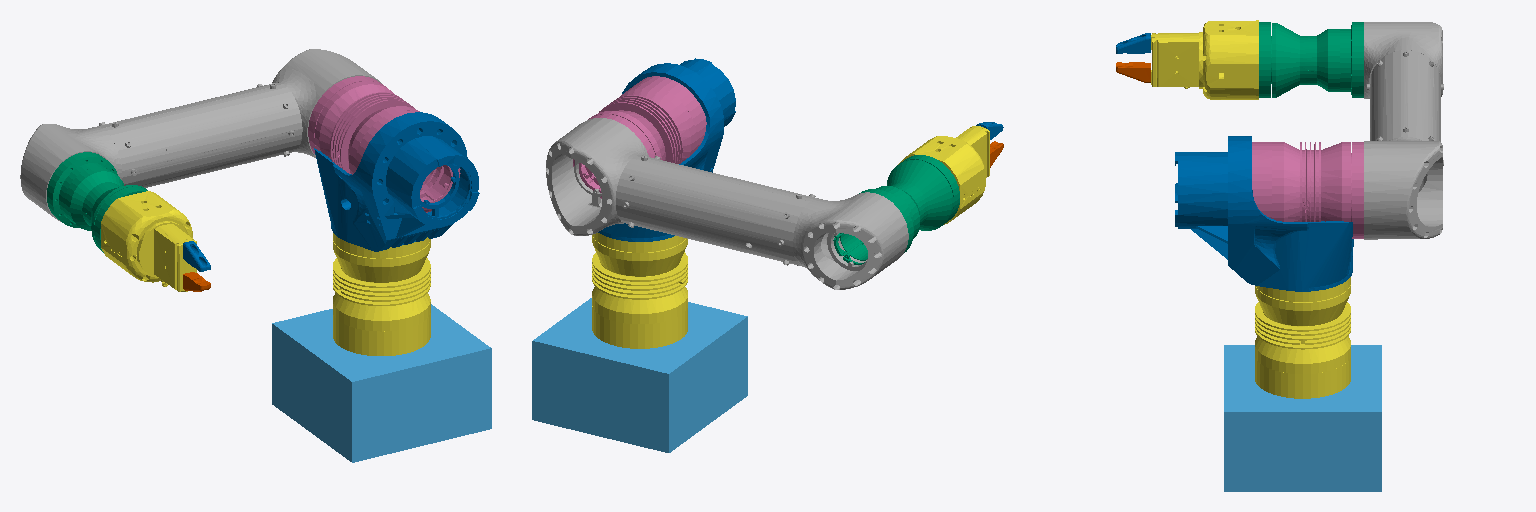
URDF robot description (modrob0):
<?xml version="1.0"?>
<robot name="modrob0">

	<link name="world"/>

	<gazebo>
		<plugin name="gazebo_ros_control" filename="libgazebo_ros_control.so">
			<robotNamespace>/modrob0</robotNamespace>
			<robotSimType>gazebo_ros_control/DefaultRobotHWSim</robotSimType>
		</plugin>
	</gazebo>

	<link name="part0">
		<visual>
			<origin rpy="0.000000 -0.000000 0.000000" xyz="0.000000 0.000000 0.100000"/>
			<geometry>
				<mesh filename="package://modrob_simulation/stl_files/B_simple.STL"/>
			</geometry>
		</visual>
		<collision>
			<origin rpy="0 0 0" xyz="0 0 5.000000e-02"/>
			<geometry>
 			<box size="1.800000e-01 1.800000e-01 1.000000e-01"/>
			</geometry>
		</collision>
	</link>

	<gazebo reference="part0">
		<material>Gazebo/DarkGrey</material>
	</gazebo>

	<gazebo reference="part0">
		<kp>0.000000</kp>
		<kd>0.000000</kd>
		<mu1>0.000000</mu1>
		<mu2>0.000000</mu2>
	</gazebo>

	<link name="distal_link_of_joint0_NV">
		<inertial>
			<origin rpy="0.000000 0.000000 0.000000" xyz="0.000630 0.000190 -0.009660"/>
			<mass value="0.588000"/>
			<inertia ixx="0.000840" ixy="0.000000" ixz="-0.000011" iyy="0.000833" iyz="-0.000001" izz="0.000732"/>
		</inertial>
	</link>

	<gazebo reference="distal_link_of_joint0_NV">
		<material></material>
	</gazebo>

	<gazebo reference="distal_link_of_joint0_NV">
		<kp>0.000000</kp>
		<kd>0.000000</kd>
		<mu1>0.000000</mu1>
		<mu2>0.000000</mu2>
	</gazebo>

	<link name="proximal_link_of_joint0">
		<inertial>
			<origin rpy="0.000000 0.000000 0.000000" xyz="0.000180 0.000130 0.054300"/>
			<mass value="2.795000"/>
			<inertia ixx="0.014000" ixy="-0.000002" ixz="-0.000003" iyy="0.014000" iyz="0.000005" izz="0.000732"/>
		</inertial>
		<visual>
			<origin rpy="0.000000 -0.000000 0.000000" xyz="0.000000 0.000000 0.135300"/>
			<geometry>
				<mesh filename="package://modrob_simulation/stl_files/MXL_low_poly.STL"/>
			</geometry>
		</visual>
		<collision>
			<origin rpy="0 0 0" xyz="0 0 5.514999e-02"/>
			<geometry>
 			<box size="1.100000e-01 1.100000e-01 2.054800e-01"/>
			</geometry>
		</collision>
	</link>

	<gazebo reference="proximal_link_of_joint0">
		<material>Gazebo/Blue</material>
	</gazebo>

	<gazebo reference="proximal_link_of_joint0">
		<kp>10000.000000</kp>
		<kd>10.000000</kd>
		<mu1>0.200000</mu1>
		<mu2>0.200000</mu2>
	</gazebo>

	<link name="link1">
		<inertial>
			<origin rpy="0.000000 0.000000 0.000000" xyz="0.000200 -0.036560 0.054520"/>
			<mass value="0.581910"/>
			<inertia ixx="0.004886" ixy="0.000007" ixz="-0.000007" iyy="0.003453" iyz="0.001714" izz="0.000000"/>
		</inertial>
		<visual>
			<origin rpy="2.356194 -1.570796 2.356194" xyz="0.000000 -0.065500 0.100900"/>
			<geometry>
				<mesh filename="package://modrob_simulation/stl_files/L_Rasmus_01_90_LL_low_poly.STL"/>
			</geometry>
		</visual>
		<collision>
			<origin rpy="2.356194e+00 -1.570796e+00 2.356194e+00" xyz="2.594479e-08 -4.366005e-02 8.128230e-02"/>
			<geometry>
 			<box size="1.625646e-01 1.235962e-01 2.036799e-01"/>
			</geometry>
		</collision>
	</link>

	<gazebo reference="link1">
		<material>Gazebo/DarkGrey</material>
	</gazebo>

	<gazebo reference="link1">
		<kp>0.000000</kp>
		<kd>0.000000</kd>
		<mu1>0.000000</mu1>
		<mu2>0.000000</mu2>
	</gazebo>



	<link name="distal_link_of_joint1_NV">
		<inertial>
			<origin rpy="0.000000 0.000000 0.000000" xyz="0.000630 0.000190 -0.009660"/>
			<mass value="0.588000"/>
			<inertia ixx="0.000840" ixy="0.000000" ixz="-0.000011" iyy="0.000833" iyz="-0.000001" izz="0.000732"/>
		</inertial>
	</link>

	<gazebo reference="distal_link_of_joint1_NV">
		<material></material>
	</gazebo>

	<gazebo reference="distal_link_of_joint1_NV">
		<kp>0.000000</kp>
		<kd>0.000000</kd>
		<mu1>0.000000</mu1>
		<mu2>0.000000</mu2>
	</gazebo>

	<link name="proximal_link_of_joint1">
		<inertial>
			<origin rpy="0.000000 0.000000 0.000000" xyz="0.000180 0.000130 0.054300"/>
			<mass value="2.795000"/>
			<inertia ixx="0.014000" ixy="0.000002" ixz="0.000003" iyy="0.014000" iyz="-0.000005" izz="0.000732"/>
		</inertial>
		<visual>
			<origin rpy="3.141593 -3.141593 1.570796" xyz="0.000000 0.000000 0.135300"/>
			<geometry>
				<mesh filename="package://modrob_simulation/stl_files/MXL+90_low_poly.STL"/>
			</geometry>
		</visual>
		<collision>
			<origin rpy="3.464102e-07 3.464102e-07 -1.570797e+00" xyz="2.776479e-08 2.776477e-08 5.514999e-02"/>
			<geometry>
 			<box size="1.100000e-01 1.100000e-01 2.054800e-01"/>
			</geometry>
		</collision>
	</link>

	<gazebo reference="proximal_link_of_joint1">
		<material>Gazebo/Blue</material>
	</gazebo>

	<gazebo reference="proximal_link_of_joint1">
		<kp>10000.000000</kp>
		<kd>10.000000</kd>
		<mu1>0.200000</mu1>
		<mu2>0.200000</mu2>
	</gazebo>



	<link name="link2">
		<inertial>
			<origin rpy="0.000000 0.000000 0.000000" xyz="0.196128 0.000005 0.044778"/>
			<mass value="1.591660"/>
			<inertia ixx="0.005537" ixy="-0.000002" ixz="-0.014137" iyy="0.093690" iyz="-0.000001" izz="0.000000"/>
		</inertial>

		<visual>
			<origin rpy="-3.141593 -0.000000 0.000000" xyz="0.350000 0.000000 0.000000"/>
			<geometry>
				<mesh filename="package://modrob_simulation/stl_files/L_360_350_LS_low_poly.STL"/>
			</geometry>
		</visual>

		<collision>
			<origin rpy="3.141592e+00 0 0" xyz="1.689997e-01 2.202507e-06 4.550000e-02"/>
			<geometry>
 			<box size="4.499994e-01 1.119922e-01 9.100000e-02"/>
			</geometry>
		</collision>
	</link>

	<gazebo reference="link2">
		<material>Gazebo/DarkGrey</material>
	</gazebo>

	<gazebo reference="link2">
		<kp>0.000000</kp>
		<kd>0.000000</kd>
		<mu1>0.000000</mu1>
		<mu2>0.000000</mu2>
	</gazebo>



	<link name="tool_dummy">
		<inertial>
			<origin rpy="0.000000 0.000000 0.000000" xyz="0.000610 0.000080 0.047140"/>
			<mass value="0.000000"/>
			<inertia ixx="0.000000" ixy="0.000000" ixz="0.000000" iyy="0.000000" iyz="0.000000" izz="0.000000"/>
		</inertial>
	</link>

	<gazebo reference="tool_dummy">
		<material></material>
	</gazebo>

	<gazebo reference="tool_dummy">
		<kp>0.000000</kp>
		<kd>0.000000</kd>
		<mu1>0.000000</mu1>
		<mu2>0.000000</mu2>
	</gazebo>

	<link name="distal_link_of_joint2_NV">
		<inertial>
			<origin rpy="0.000000 0.000000 0.000000" xyz="-0.000044 -0.000008 -0.001115"/>
			<mass value="0.289400"/>
			<inertia ixx="0.000178" ixy="-0.000000" ixz="-0.000000" iyy="0.000178" iyz="0.000000" izz="0.000192"/>
		</inertial>
	</link>

	<gazebo reference="distal_link_of_joint2_NV">
		<material></material>
	</gazebo>

	<gazebo reference="distal_link_of_joint2_NV">
		<kp>0.000000</kp>
		<kd>0.000000</kd>
		<mu1>0.000000</mu1>
		<mu2>0.000000</mu2>
	</gazebo>

	<link name="proximal_link_of_joint2">
		<inertial>
			<origin rpy="0.000000 0.000000 0.000000" xyz="0.000610 0.000080 0.047140"/>
			<mass value="1.253380"/>
			<inertia ixx="0.004000" ixy="0.000000" ixz="0.000016" iyy="0.005000" iyz="-0.000000" izz="0.000192"/>
		</inertial>
		<visual>
			<origin rpy="0.000000 -0.000000 0.000000" xyz="0.000000 0.000000 0.119550"/>
			<geometry>
				<mesh filename="package://modrob_simulation/stl_files/MS_low_poly.STL"/>
			</geometry>
		</visual>
		<collision>
			<origin rpy="0 0 0" xyz="0 0 4.727500e-02"/>
			<geometry>
 			<box size="8.600000e-02 8.600000e-02 1.897300e-01"/>
			</geometry>
		</collision>
	</link>

	<gazebo reference="proximal_link_of_joint2">
		<material>Gazebo/Blue</material>
	</gazebo>

	<gazebo reference="proximal_link_of_joint2">
		<kp>10000.000000</kp>
		<kd>10.000000</kd>
		<mu1>0.200000</mu1>
		<mu2>0.200000</mu2>
	</gazebo>

	<link name="hand">
		<inertial>
			<origin rpy="0.000000 0.000000 0.000000" xyz="0.000000 0.000000 0.06250"/>
			<mass value="0.184000"/>
			<inertia ixx="0.550000" ixy="-0.000002" ixz="-0.000003" iyy="0.930000" iyz="0.000005" izz="0.550000"/>
		</inertial>
		<visual>
			<origin rpy="0.000000 -0.000000 0.000000" xyz="0.000000 0.000000 0.06250"/>
			<geometry>
				<mesh filename="package://modrob_simulation/stl_files/E_Schimaneck_low_poly.STL"/>
			</geometry>
		</visual>
		<collision>
			<origin rpy="0 0 0" xyz="2.343744e-03 0 2.165501e-02"/>
			<geometry>
 			<box size="8.531006e-02 8.485281e-02 1.616900e-01"/>
			</geometry>
		</collision>
	</link>

	<gazebo reference="hand">
		<material>Gazebo/DarkGrey</material>
	</gazebo>

	<gazebo reference="hand">
		<kp>0.000000</kp>
		<kd>0.000000</kd>
		<mu1>0.000000</mu1>
		<mu2>0.000000</mu2>
	</gazebo>



	<link name="finger1">
		<inertial>
			<origin rpy="0.00000 0.000000 0.0" xyz="0.0 -0.000 0.001500"/>
			<mass value="0.006944"/>
			<inertia ixx="0.000004629" ixy="0.000000486" ixz="0.000000972" iyy="0.000004157" iyz="0.000001389" izz="0.00000138"/>
		</inertial>
		<visual>
			<origin rpy="0.000000 0.000000 0.0" xyz="0.0 -0.000 0.001500"/>
			<geometry>
				<mesh filename="package://modrob_simulation/stl_files/finger_Birne_Gimatic_m_low_poly.STL"/>
			</geometry>
		</visual>
		<!--
		<collision>
			<origin rpy="0.000000 0.000000 0.0" xyz="0.0 -0.000 0.001500"/>
			<geometry>
				<mesh filename="package://modrob_simulation/stl_files/finger_Birne_Gimatic_m_low_poly.STL"/>
			</geometry>
		</collision>
		-->
	</link>

	<gazebo reference="finger1">
		<material>Gazebo/Blue</material>
	</gazebo>

	<gazebo reference="finger1">
		<kp>110.000000</kp>
		<kd>10.000000</kd>
		<mu1>100.00</mu1>
		<mu2>100.00</mu2>
	</gazebo>



	<link name="finger2">
		<inertial>
			<origin rpy="0.00000 0.000000 0.0" xyz="0.000 0.00 0.001500"/>
			<mass value="0.006944"/>
			<inertia ixx="0.000004629" ixy="0.000000486" ixz="0.000000972" iyy="0.000004157" iyz="0.000001389" izz="0.00000138"/>
		</inertial>
		<visual>
			<origin rpy="0.000000 0.000000 0.0" xyz="0.000 0.00 0.001500"/>
			<geometry>
				<mesh filename="package://modrob_simulation/stl_files/finger_Birne_Gimatic_m_low_poly.STL"/>
			</geometry>
		</visual>
		<!--
		<collision>
			<origin rpy="0.000000 0.000000 0.0" xyz="0.000 0.00 0.001500"/>
			<geometry>
				<mesh filename="package://modrob_simulation/stl_files/finger_Birne_Gimatic_m_low_poly.STL"/>
			</geometry>
		</collision>
		-->
	</link>

	<gazebo reference="finger2">
		<material>Gazebo/Blue</material>
	</gazebo>

	<gazebo reference="finger2">
		<kp>110.000000</kp>
		<kd>10.000000</kd>
		<mu1>100.00</mu1>
		<mu2>100.00</mu2>
	</gazebo>


	<joint name="fixed" type="fixed">
		<parent link="world"/>
		<child link="part0"/>
	</joint>
	<joint name="part0_joint0" type="fixed">
		<origin xyz="0.000000 0.000000 0.100000" rpy="0.000000 -0.000000 0.000000"/>
		<parent link="part0"/>
		<child link="proximal_link_of_joint0"/>
		<axis xyz="0.000000 0.000000 0.000000"/>
		<dynamics damping="0.000000" friction="0.000000"/>
	</joint>

	<joint name="joint0_link1" type="fixed">
		<origin xyz="0.000000 0.000000 0.135300" rpy="0.000000 -0.000000 0.000000"/>
		<parent link="distal_link_of_joint0_NV"/>
		<child link="link1"/>
		<axis xyz="0.000000 0.000000 0.000000"/>
		<dynamics damping="0.000000" friction="0.000000"/>
	</joint>

	<joint name="joint0" type="revolute">
		<origin xyz="0.000000 0.000000 0.000000" rpy="0.000000 -0.000000 0.000000"/>
		<parent link="proximal_link_of_joint0"/>
		<child link="distal_link_of_joint0_NV"/>
		<axis xyz="0.000000 0.000000 1.000000"/>
		<dynamics damping="51.459999" friction="36.560001"/>
		<limit effort="205.919998" velocity="1.890000" lower="-3.141593" upper="3.141593"/>
		<sensor name="force_torque_joint0" type="force_torque">
			<update_rate>100</update_rate>
		</sensor>
	</joint>

	<transmission name="trans0">
		<type>transmission_interface/SimpleTransmission</type>
		<joint name="joint0">
			<hardwareInterface>hardware_interface/EffortJointInterface</hardwareInterface>
		</joint>
		<actuator name="motor0">
			<hardwareInterface>hardware_interface/EffortJointInterface</hardwareInterface>
			<mechanicalReduction>160.000000</mechanicalReduction>
		</actuator>
	</transmission>

	<joint name="link1_joint1" type="fixed">
		<origin xyz="0.000000 -0.065500 0.100900" rpy="2.356194 -1.570796 2.356194"/>
		<parent link="link1"/>
		<child link="proximal_link_of_joint1"/>
		<axis xyz="0.000000 0.000000 0.000000"/>
		<dynamics damping="0.000000" friction="0.000000"/>
	</joint>

	<joint name="joint1_link2" type="fixed">
		<origin xyz="0.000000 0.000000 0.135300" rpy="3.141593 -3.141593 1.570796"/>
		<parent link="distal_link_of_joint1_NV"/>
		<child link="link2"/>
		<axis xyz="0.000000 0.000000 0.000000"/>
		<dynamics damping="0.000000" friction="0.000000"/>
	</joint>

	<joint name="joint1" type="revolute">
		<origin xyz="0.000000 0.000000 0.000000" rpy="0.000000 -0.000000 0.000000"/>
		<parent link="proximal_link_of_joint1"/>
		<child link="distal_link_of_joint1_NV"/>
		<axis xyz="0.000000 0.000000 1.000000"/>
		<dynamics damping="51.459999" friction="36.560001"/>
		<limit effort="205.919998" velocity="0.800000" lower="-3.141593" upper="3.141593"/>
		<sensor name="force_torque_joint1" type="force_torque">
			<update_rate>100</update_rate>
		</sensor>
	</joint>

	<transmission name="trans1">
		<type>transmission_interface/SimpleTransmission</type>
		<joint name="joint1">
			<hardwareInterface>hardware_interface/EffortJointInterface</hardwareInterface>
		</joint>
		<actuator name="motor1">
			<hardwareInterface>hardware_interface/EffortJointInterface</hardwareInterface>
			<mechanicalReduction>160.000000</mechanicalReduction>
		</actuator>
	</transmission>

	<joint name="link2_joint2" type="fixed">
		<origin xyz="0.350000 0.000000 0.000000" rpy="-3.141593 -0.000000 0.000000"/>
		<parent link="link2"/>
		<child link="proximal_link_of_joint2"/>
		<axis xyz="0.000000 0.000000 0.000000"/>
		<dynamics damping="0.000000" friction="0.000000"/>
	</joint>

	<joint name="joint2_tool_dummy" type="fixed">
		<origin xyz="0.000000 0.000000 0.119550" rpy="0.000000 -0.000000 0.000000"/>
		<parent link="distal_link_of_joint2_NV"/>
		<child link="tool_dummy"/>
		<axis xyz="0.000000 0.000000 0.000000"/>
		<dynamics damping="0.000000" friction="0.000000"/>
	</joint>

	<joint name="joint2" type="revolute">
		<origin xyz="0.000000 0.000000 0.000000" rpy="0.000000 -0.000000 0.000000"/>
		<parent link="proximal_link_of_joint2"/>
		<child link="distal_link_of_joint2_NV"/>
		<axis xyz="0.000000 0.000000 1.000000"/>
		<dynamics damping="13.170000" friction="6.019000"/>
		<limit effort="54.000000" velocity="3.050000" lower="-3.141593" upper="3.141593"/>
		<sensor name="force_torque_joint2" type="force_torque">
			<update_rate>100</update_rate>
		</sensor>
	</joint>

	<transmission name="trans2">
		<type>transmission_interface/SimpleTransmission</type>
		<joint name="joint2">
			<hardwareInterface>hardware_interface/EffortJointInterface</hardwareInterface>
		</joint>
		<actuator name="motor2">
			<hardwareInterface>hardware_interface/EffortJointInterface</hardwareInterface>
			<mechanicalReduction>120.000000</mechanicalReduction>
		</actuator>
	</transmission>


	<joint name="fixed_gripper_to_arm_link" type="fixed">
		<origin rpy="0.000000 0.000000 0.000000" xyz="0.000000 0.000000 0.059775"/>
		<parent link="tool_dummy"/>
		<child link="hand"/>
	</joint>

	<joint name="hand_to_finger1" type="prismatic">
		<origin rpy="0.000000 0.000000 +1.570796327" xyz="0.00700 -0.03200 0.06200"/>
		<parent link="hand"/>
		<child link="finger1"/>
		<dynamics damping="12.590000" friction="0.400000"/>
		<limit effort="3.0" lower="-0.0" upper="0.0100" velocity="0.5"/> <!-- was 0.38 and 0.0 -->
	</joint>

	<joint name="hand_to_finger2" type="prismatic">
		<origin rpy="0.000000 0.000000 -1.570796327" xyz="-0.00700 0.0620 0.06200"/>
		<parent link="hand"/>
		<child link="finger2"/>
		<dynamics damping="12.590000" friction="0.400000"/>
		<limit effort="3.0" lower="0.03" upper="0.04" velocity="0.5"/>
	</joint>

	<transmission name="trans_hand_to_finger1">
		<type>transmission_interface/SimpleTransmission</type>
		<joint name="hand_to_finger1">
			<hardwareInterface>hardware_interface/EffortJointInterface</hardwareInterface>
		</joint>
		<actuator name="motor_hand_to_finger1">
			<hardwareInterface>hardware_interface/EffortJointInterface</hardwareInterface>
			<mechanicalReduction>160</mechanicalReduction>
		</actuator>
	</transmission>

	<transmission name="trans_hand_to_finger2">
		<type>transmission_interface/SimpleTransmission</type>
		<joint name="hand_to_finger2">
			<hardwareInterface>hardware_interface/EffortJointInterface</hardwareInterface>
		</joint>
		<actuator name="motor_hand_to_finger2">
			<hardwareInterface>hardware_interface/EffortJointInterface</hardwareInterface>
			<mechanicalReduction>160</mechanicalReduction>
		</actuator>
	</transmission>

</robot>

--- What the picture shows (computed from the rendered views, not written in the file) ---
The picture shows the robot from 3 angles, left to right: view 1: azimuth 30°, elevation 25°; view 2: azimuth 150°, elevation 25°; view 3: azimuth 270°, elevation 25°; orthographic projection.
Robot: modrob0 — 14 links, 13 joints (3 revolute, 2 prismatic, 8 fixed); root link world; default pose: all joints at 0 but 1 set to mid-range because 0 is outside their limits (hand_to_finger2 = 0.035).
Visible links, largest first — view 1: part0, link2, link1, proximal_link_of_joint0, proximal_link_of_joint1, hand, proximal_link_of_joint2, finger1; view 2: link2, part0, proximal_link_of_joint0, proximal_link_of_joint1, proximal_link_of_joint2, link1, hand; view 3: part0, link2, link1, proximal_link_of_joint0, proximal_link_of_joint1, hand, proximal_link_of_joint2, finger2, finger1.
Link boxes in pixels (x1=…): part0: x1=272, y1=304, x2=491, y2=462; link2: x1=20, y1=49, x2=381, y2=221; link1: x1=314, y1=112, x2=479, y2=251; proximal_link_of_joint0: x1=333, y1=233, x2=430, y2=355; proximal_link_of_joint1: x1=308, y1=76, x2=460, y2=212; hand: x1=101, y1=191, x2=196, y2=291; proximal_link_of_joint2: x1=47, y1=152, x2=147, y2=252; finger1: x1=183, y1=241, x2=210, y2=271; link2: x1=546, y1=118, x2=908, y2=289; part0: x1=532, y1=298, x2=747, y2=452; proximal_link_of_joint0: x1=592, y1=233, x2=687, y2=348; proximal_link_of_joint1: x1=573, y1=76, x2=706, y2=198; proximal_link_of_joint2: x1=833, y1=155, x2=959, y2=264; link1: x1=598, y1=58, x2=735, y2=241; hand: x1=898, y1=126, x2=989, y2=224; part0: x1=1224, y1=345, x2=1381, y2=491; link2: x1=1364, y1=22, x2=1443, y2=239; link1: x1=1175, y1=136, x2=1353, y2=291; proximal_link_of_joint0: x1=1255, y1=277, x2=1350, y2=398; proximal_link_of_joint1: x1=1252, y1=142, x2=1363, y2=238; hand: x1=1151, y1=20, x2=1258, y2=99; proximal_link_of_joint2: x1=1259, y1=22, x2=1363, y2=97; finger2: x1=1116, y1=62, x2=1150, y2=82; finger1: x1=1116, y1=33, x2=1150, y2=53.
Bounding box of the posed robot: 0.484 × 0.3738 × 0.3981 m (x, y, z).
9 mesh visuals loaded from 8 distinct referenced files (8 binary STL).
